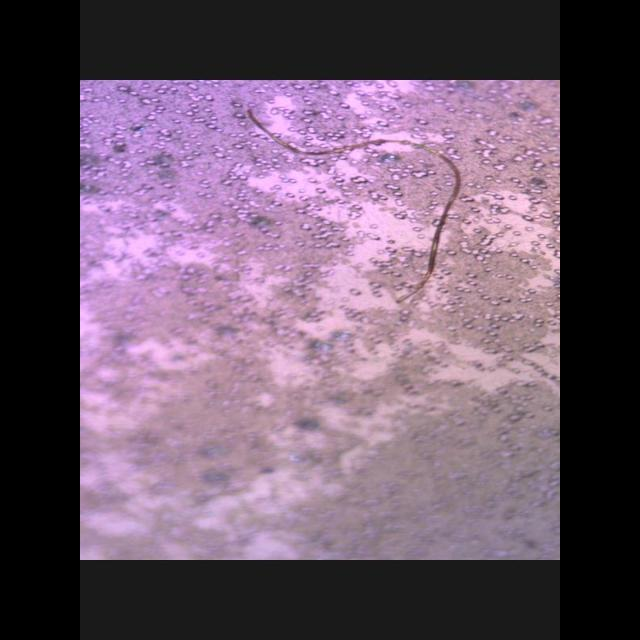Fibre: (242, 108, 460, 304)
